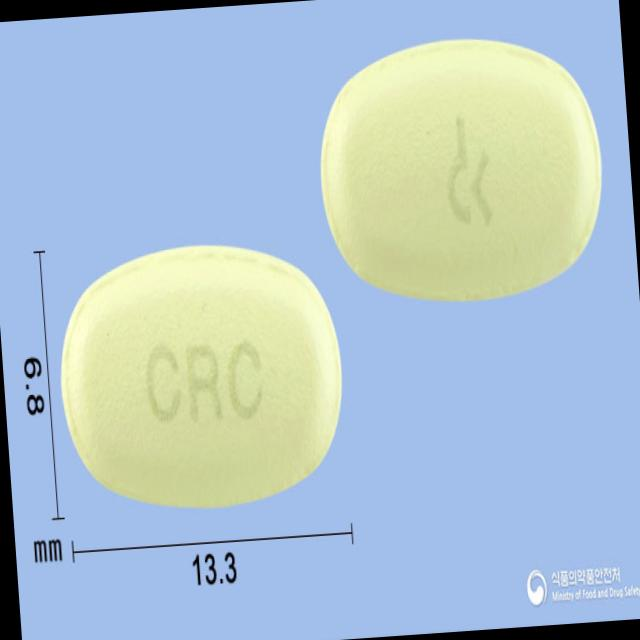Clirocin: (49, 227, 352, 522), (311, 24, 611, 314)
